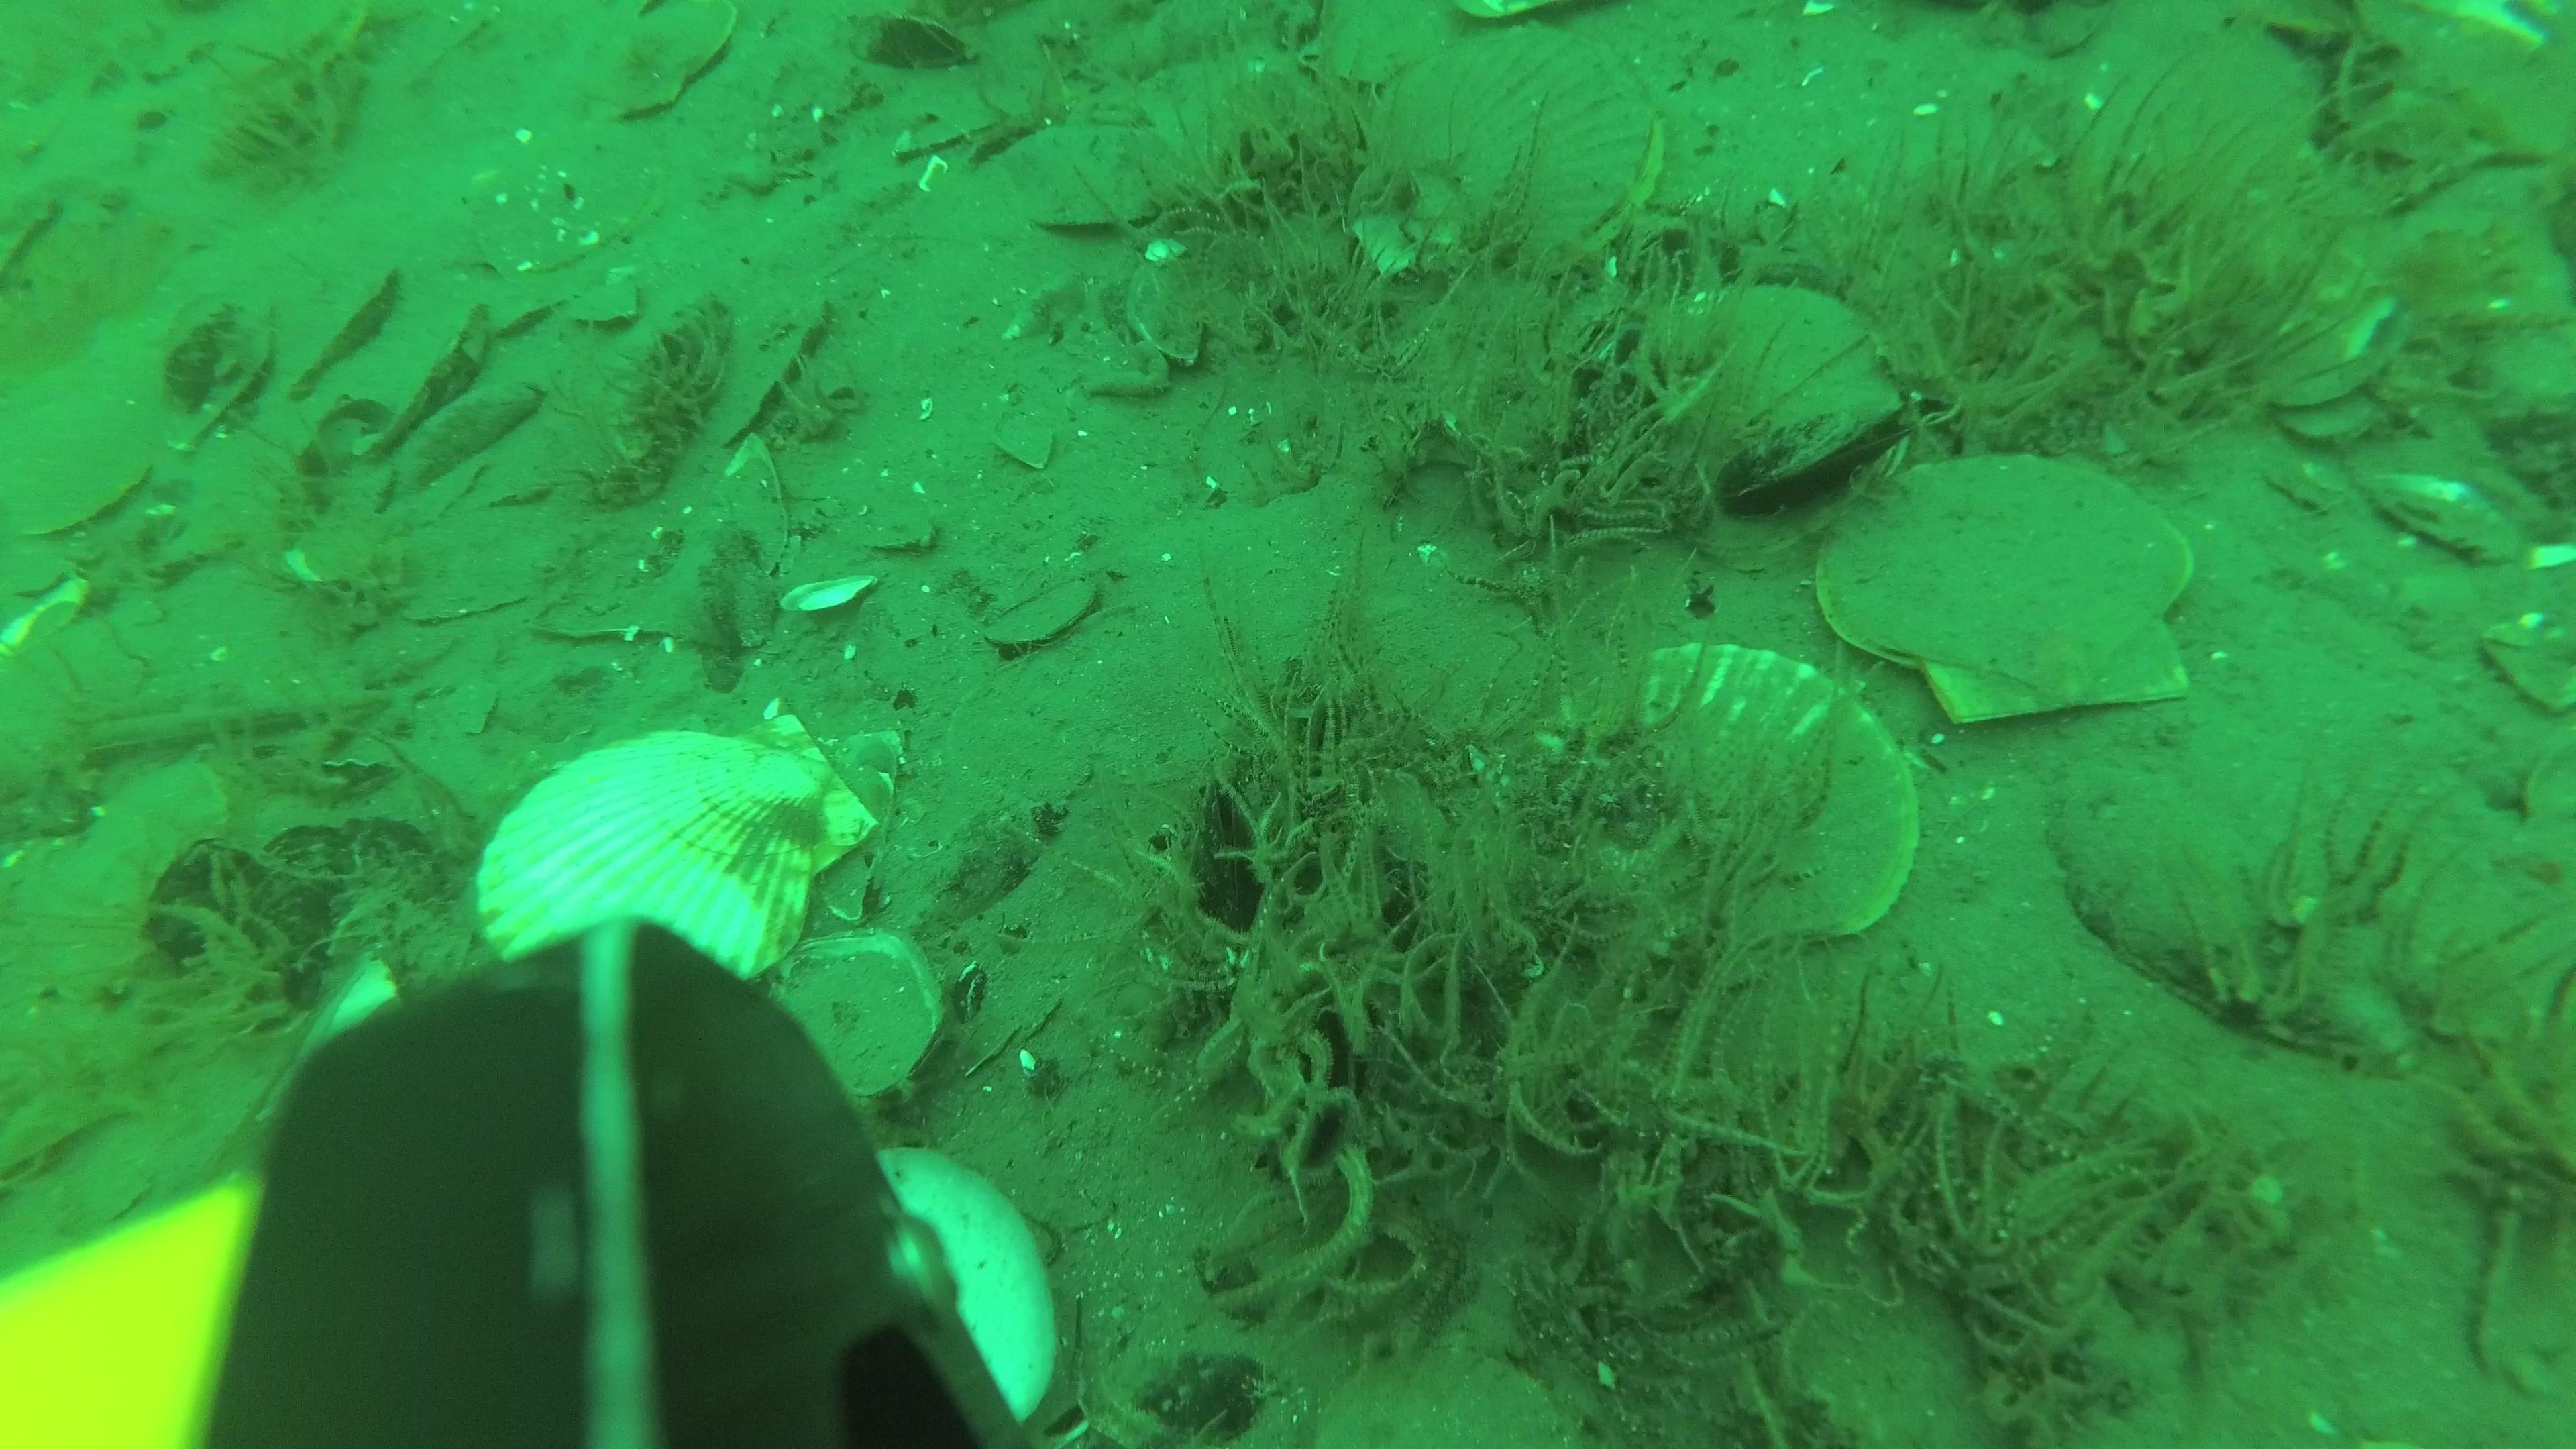scallop: (472, 713, 869, 1005), (1569, 649, 1920, 948), (1819, 453, 2196, 729), (1362, 35, 1667, 280), (1612, 297, 1911, 495), (2065, 37, 2316, 249), (761, 931, 952, 1099), (1000, 126, 1180, 232), (586, 5, 743, 120), (12, 446, 145, 548)
